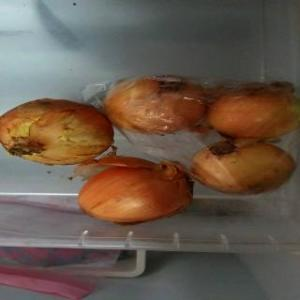onion: (0, 99, 112, 166), (79, 158, 189, 225), (108, 74, 206, 134), (204, 80, 298, 140), (195, 139, 295, 195)
